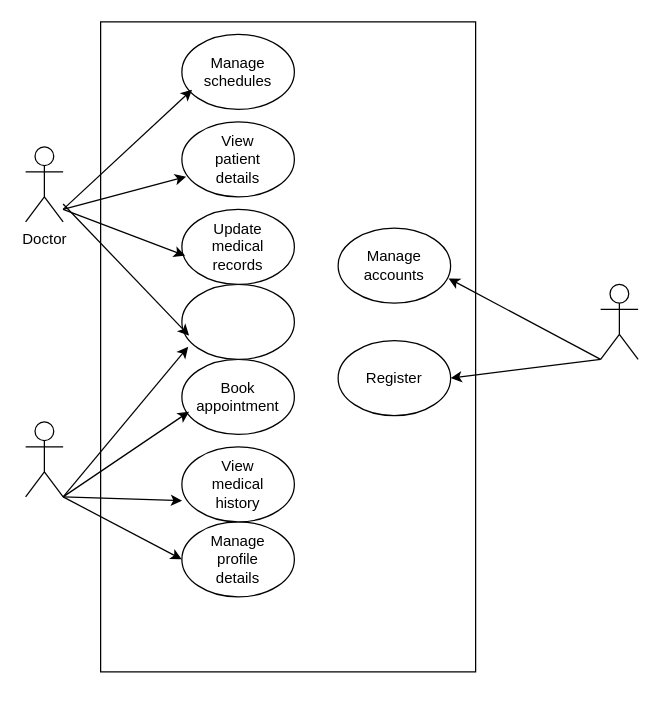
This 663x704 diagram has some shape labels left out. Here are the shapes that lost their labels. From the top down, the box of each, then its label:
(181, 283, 294, 359): login
(599, 283, 638, 359): Admin
(24, 421, 63, 497): Patient
